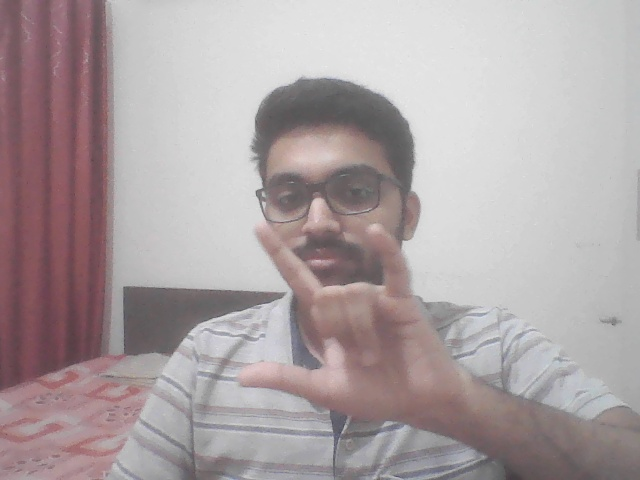iloveyou: (229, 214, 479, 458)
